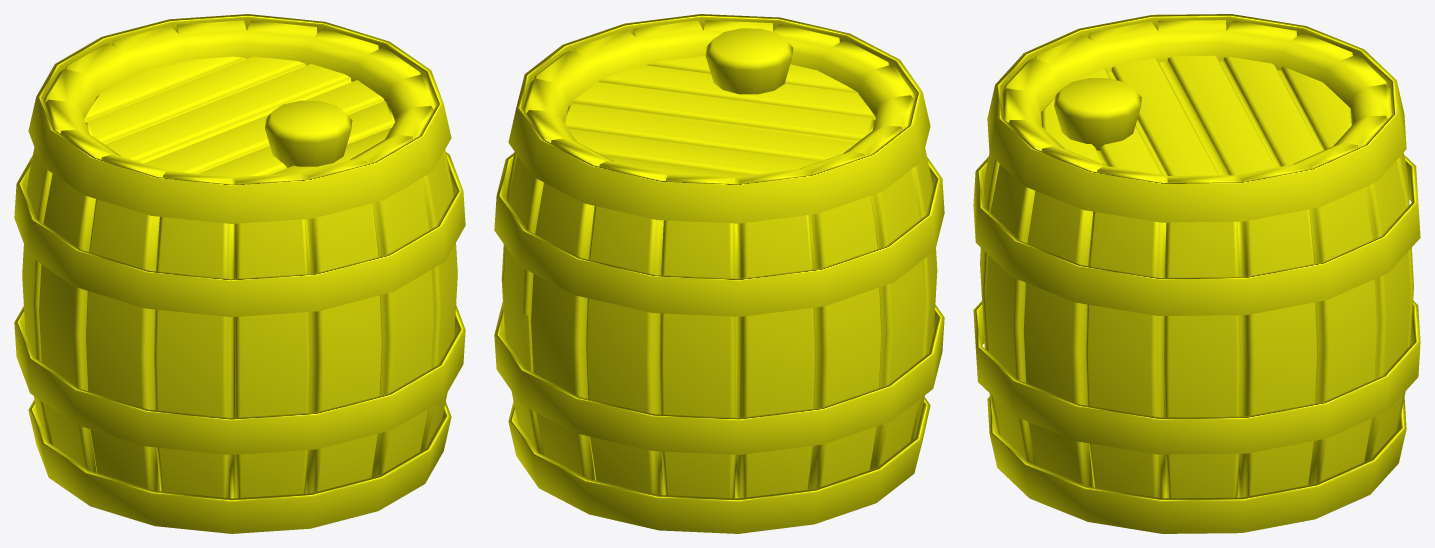
The model's file is Barrel3.obj.
3 renders of one model, left to right at view 1: azimuth 30°, elevation 25°; view 2: azimuth 150°, elevation 25°; view 3: azimuth 270°, elevation 25°, orthographic.
Parts seen in each view (by area): view 1: Barrel4; view 2: Barrel4; view 3: Barrel4.
Part boxes in pixels (x1,y1,x2,y2): Barrel4: (14, 14, 465, 533); Barrel4: (494, 14, 944, 533); Barrel4: (973, 14, 1420, 533).
Bounding box in the file's own units: 3.64 × 3.28 × 3.64.
